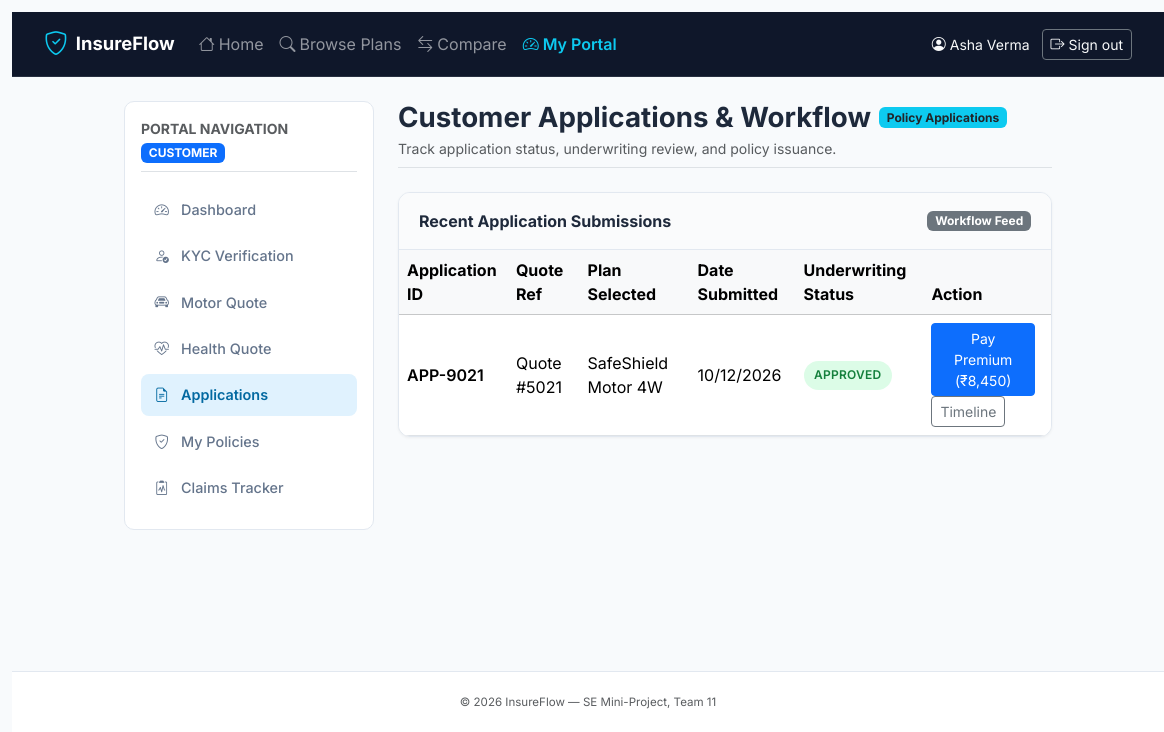
Test: ApplicationsPlaceholder Component (P4-17 Navigation & API rendering) › renders applications from API and navigates to payment page when Pay Premium button is clicked
Click the button "Pay Premium (₹8,450)" at (983, 360), box 931,323 -> 1035,396
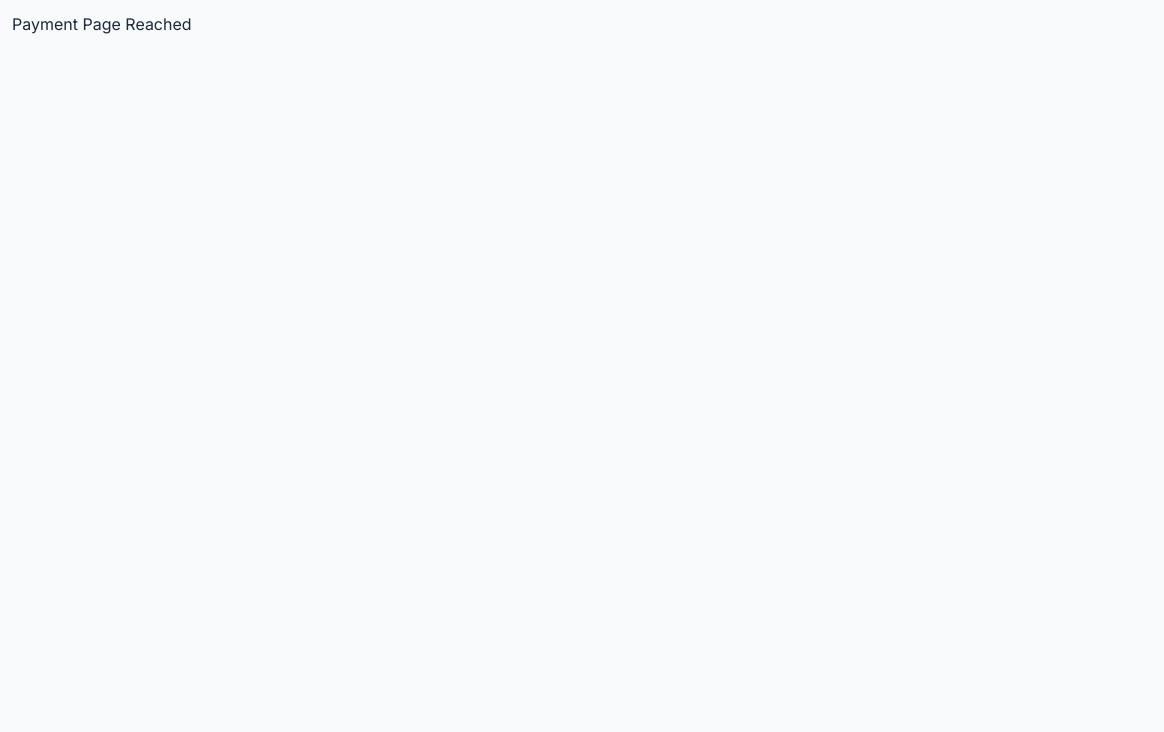
Expected: the text with test id "payment-page-destination" reads "Payment Page Reached", 12,14 -> 192,34
